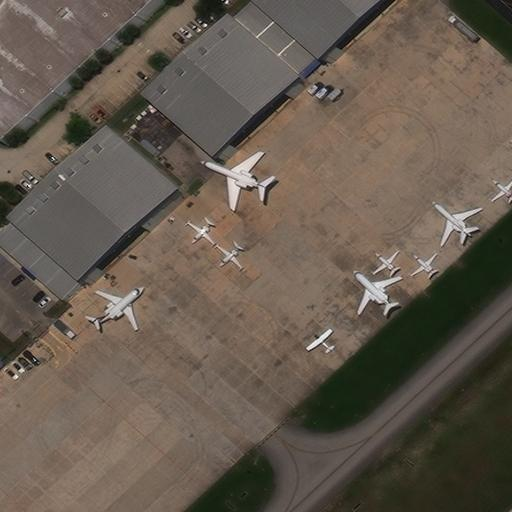Medium Civil Transport: (198, 151, 265, 209), (431, 200, 483, 246), (92, 286, 143, 330), (352, 269, 400, 313)
Small Civil Transport: (186, 221, 214, 245), (409, 252, 436, 276), (304, 328, 332, 351), (217, 245, 242, 269), (371, 250, 397, 272), (490, 177, 511, 201)
